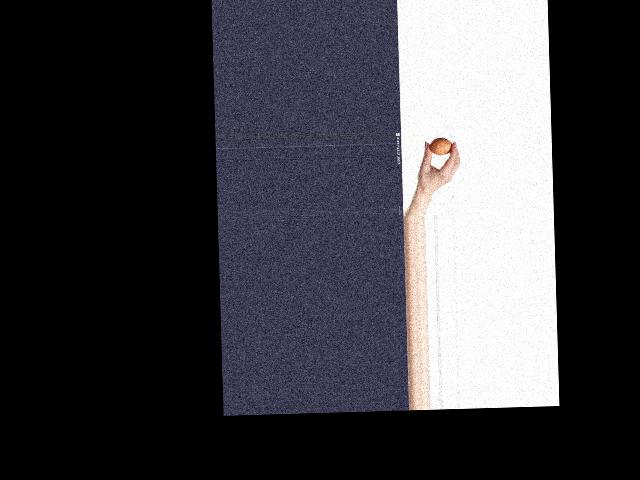egg: (429, 137, 451, 156)
